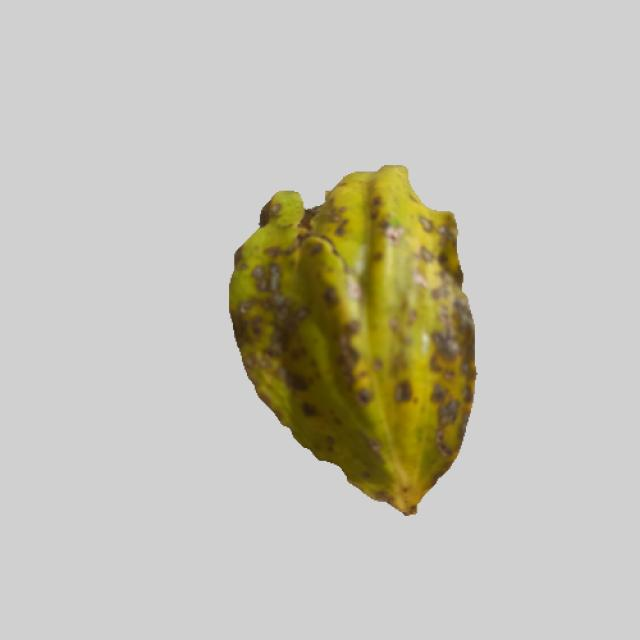yellow-mottle-virus: (212, 155, 478, 513)
